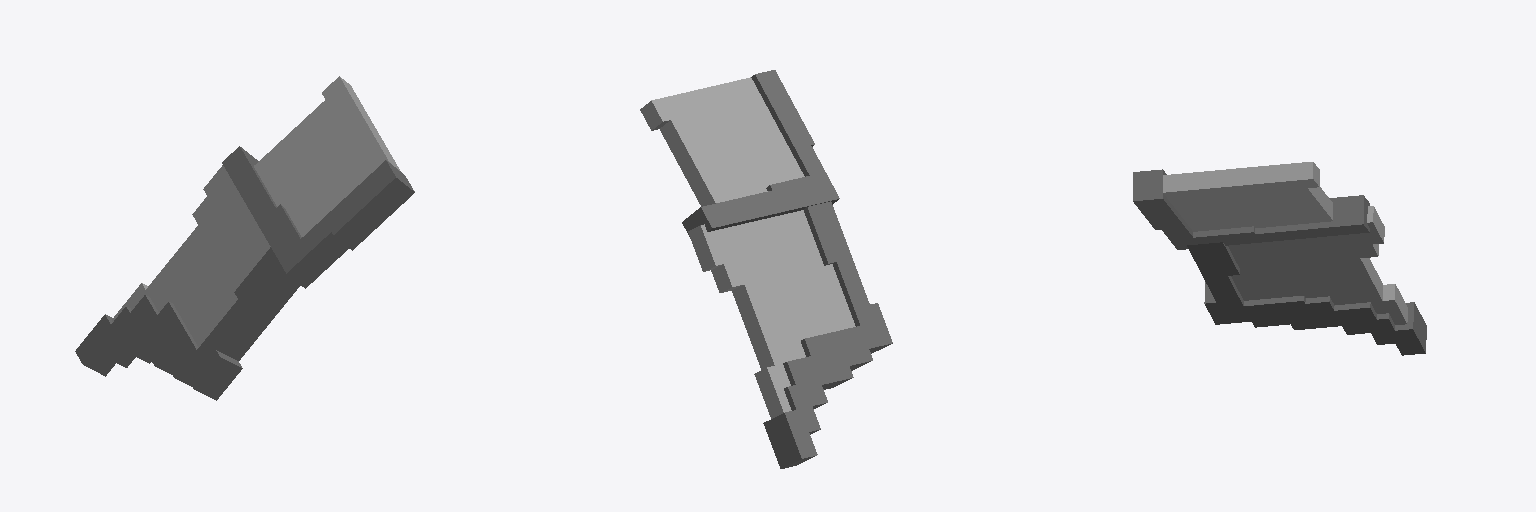
3 renders of one model, left to right at view 1: azimuth 30°, elevation 25°; view 2: azimuth 150°, elevation 25°; view 3: azimuth 270°, elevation 25°, orthographic.
Visible parts, largest first — view 1: Model; view 2: Model; view 3: Model.
Part boxes in pixels (x1,y1,x2,y2): Model: (75,76,414,400); Model: (640,70,892,468); Model: (1133,162,1426,355).
Bounding box in the file's own units: 41.32 × 50.79 × 47.27.
1 materials, 1 textured.